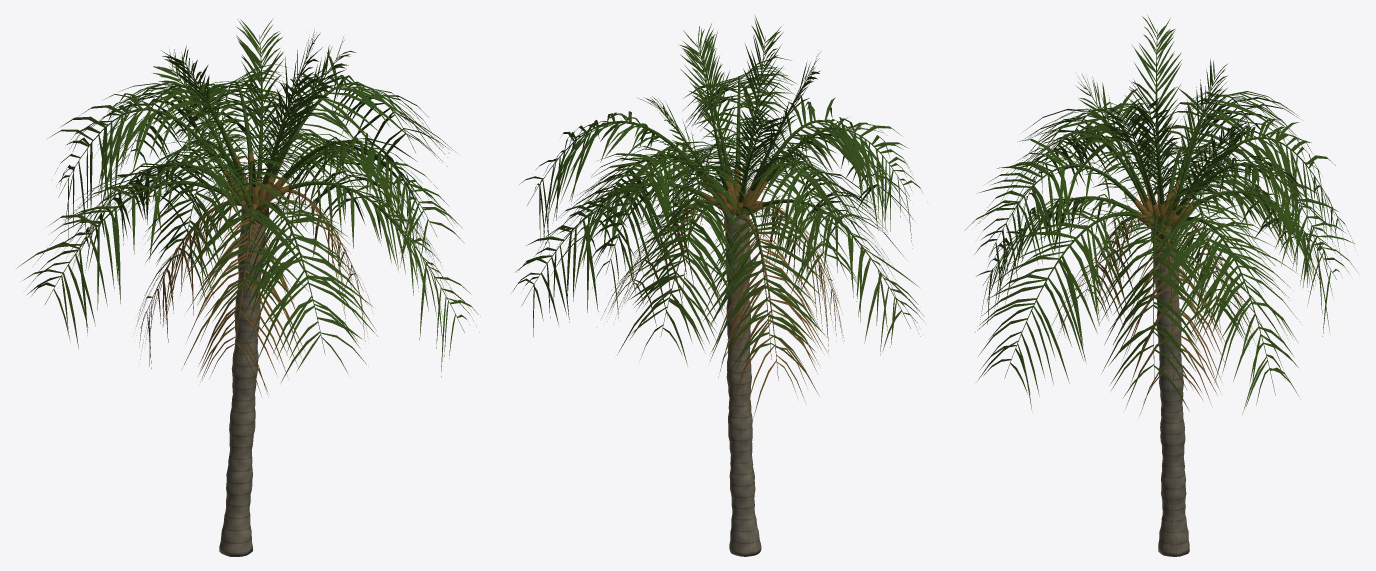
File: station-palm.glb
The picture shows the model from 3 angles, left to right: view 1: azimuth 30°, elevation 25°; view 2: azimuth 150°, elevation 25°; view 3: azimuth 270°, elevation 25°; orthographic projection. The views are drawn at different scales.
Parts seen in each view (by area): view 1: Station palm / Living pinnate foliage, Station palm / Senescent foliage and petiole sheaths, Station palm / Ringed fibrous trunk; view 2: Station palm / Living pinnate foliage, Station palm / Senescent foliage and petiole sheaths, Station palm / Ringed fibrous trunk; view 3: Station palm / Living pinnate foliage, Station palm / Ringed fibrous trunk, Station palm / Senescent foliage and petiole sheaths.
Part boxes in pixels (x1,y1,x2,y2): Station palm / Living pinnate foliage: (16,18,480,382); Station palm / Senescent foliage and petiole sheaths: (136,153,371,397); Station palm / Ringed fibrous trunk: (219,207,266,556); Station palm / Living pinnate foliage: (512,16,925,377); Station palm / Senescent foliage and petiole sheaths: (601,165,844,419); Station palm / Ringed fibrous trunk: (724,213,761,556); Station palm / Living pinnate foliage: (964,15,1356,414); Station palm / Ringed fibrous trunk: (1151,225,1189,556); Station palm / Senescent foliage and petiole sheaths: (1048,180,1267,415).
Bounding box in the file's own units: 7.51 × 9.2 × 6.66.
3 materials, 3 textured.
